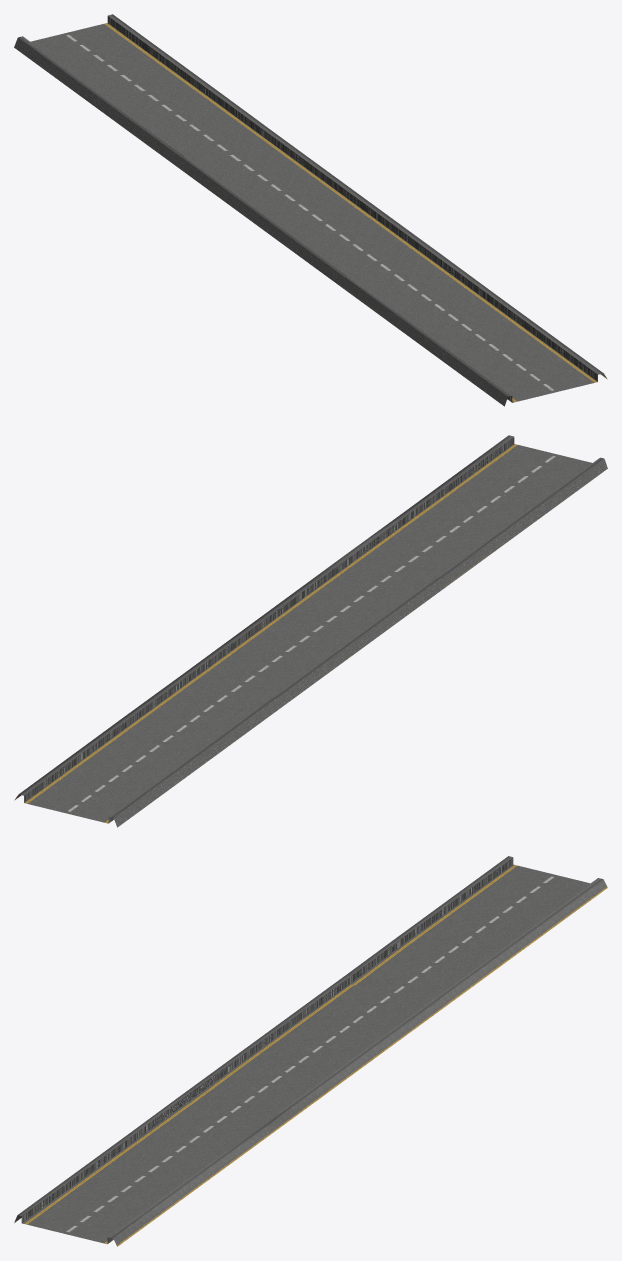
File: road_model.fbx
3 renders of one model, top to bottom at view 1: azimuth 30°, elevation 25°; view 2: azimuth 150°, elevation 25°; view 3: azimuth 330°, elevation 25°, orthographic.
Parts seen in each view (by area): view 1: road; view 2: road; view 3: road.
Part boxes in pixels (x1=…): road: x1=14, y1=14, x2=607, y2=406; road: x1=14, y1=435, x2=607, y2=827; road: x1=14, y1=856, x2=607, y2=1246.
Size of the model in its own units: 22 by 1.86 by 181.
Materials: 1 (1 with a texture image).
